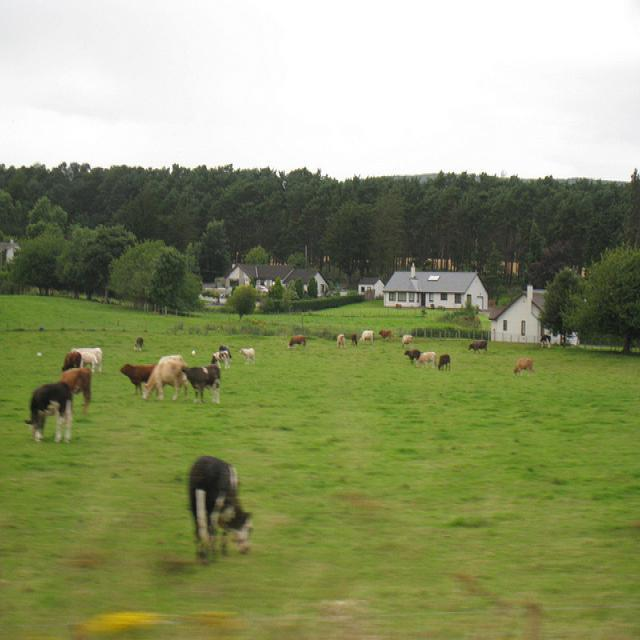cow: (132, 312, 560, 369), (187, 452, 253, 560), (18, 379, 73, 443), (142, 352, 186, 400), (178, 363, 220, 404), (58, 367, 89, 413), (117, 360, 155, 395), (60, 347, 93, 368), (512, 357, 533, 375), (414, 349, 435, 367), (89, 345, 101, 371), (402, 347, 420, 364), (287, 333, 305, 348), (437, 352, 450, 369)
